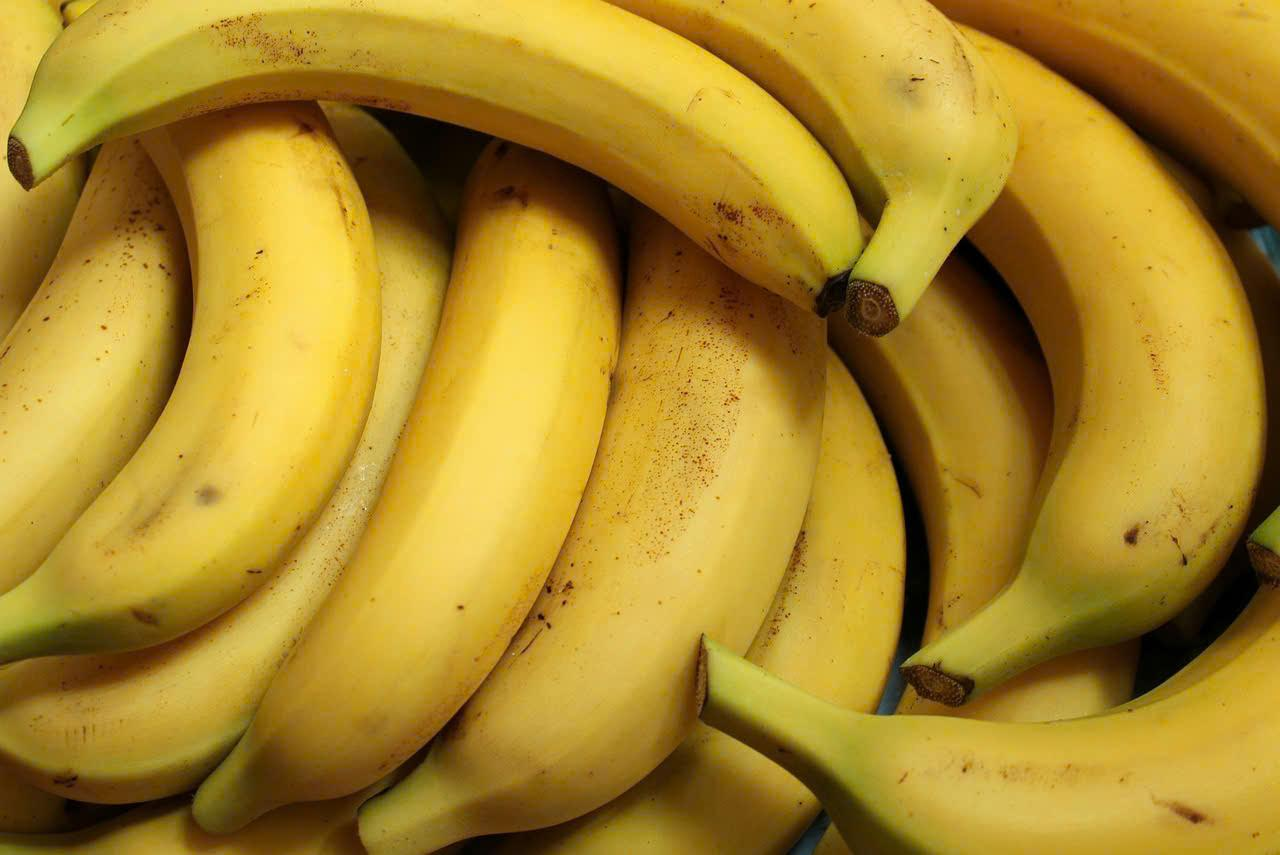banana: (608, 216, 1280, 855), (0, 0, 1016, 348), (0, 80, 383, 852)
